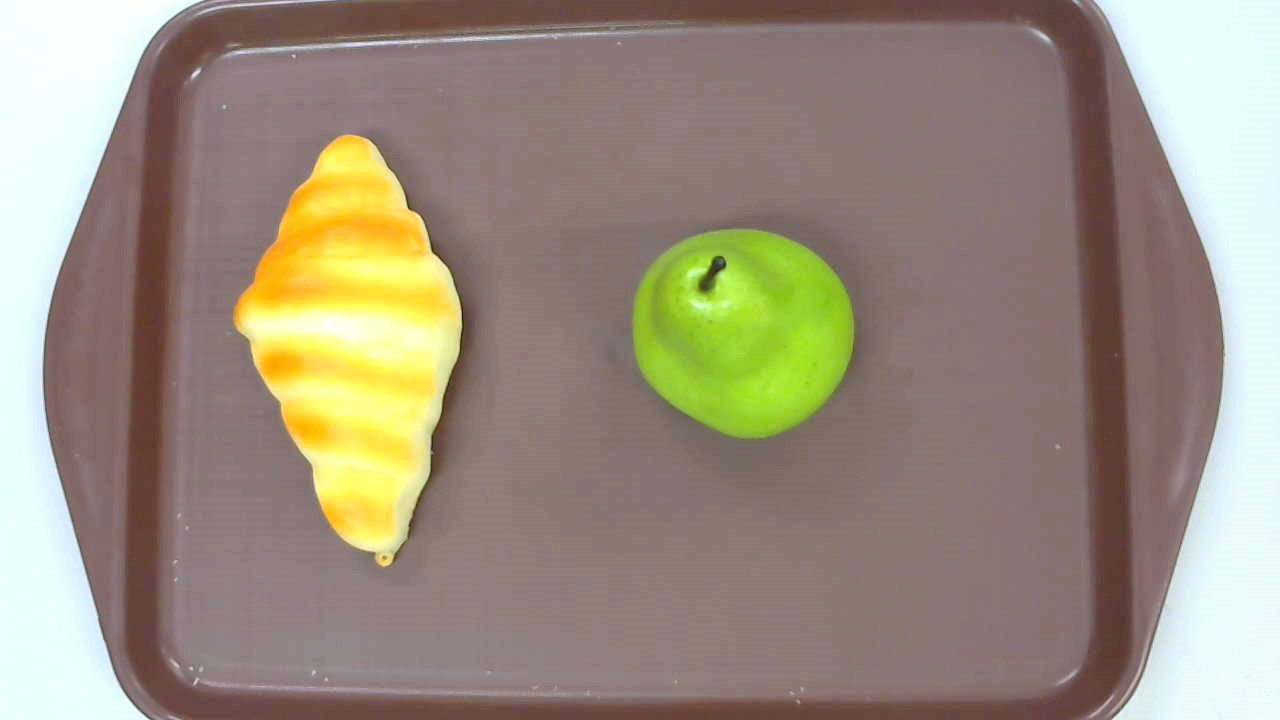croissant: (233, 133, 461, 568)
green pear: (632, 228, 854, 441)
